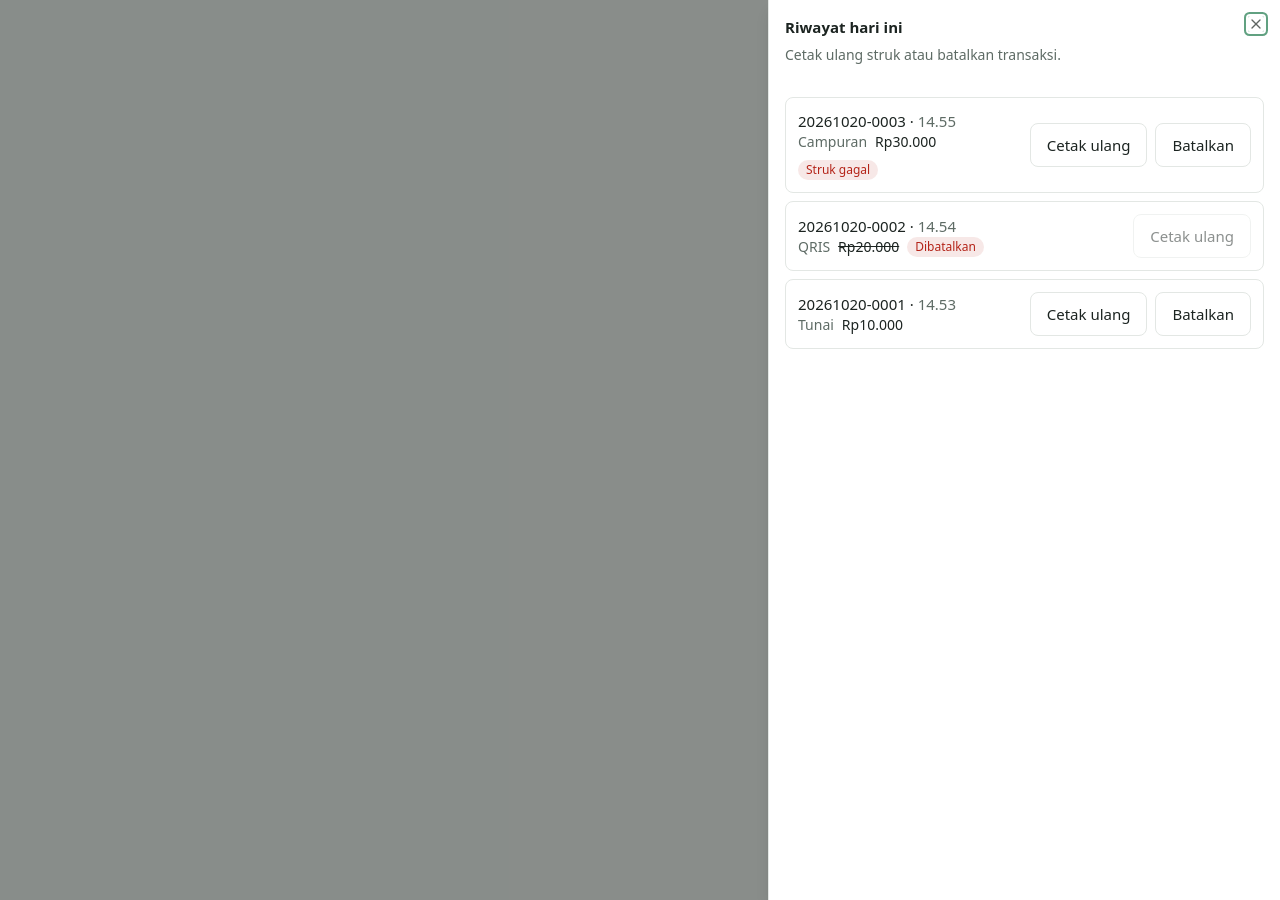
Test: printer gagal → 'Struk gagal dicetak'
The image size is (1280, 900).
Expected: the text "20261020-0001 · 14.53" is shown, [798,293,956,315]
Click the button with aria-label "Cetak ulang 20261020-0001" at {"x": 1089, "y": 314}, box [1030,292,1147,336]
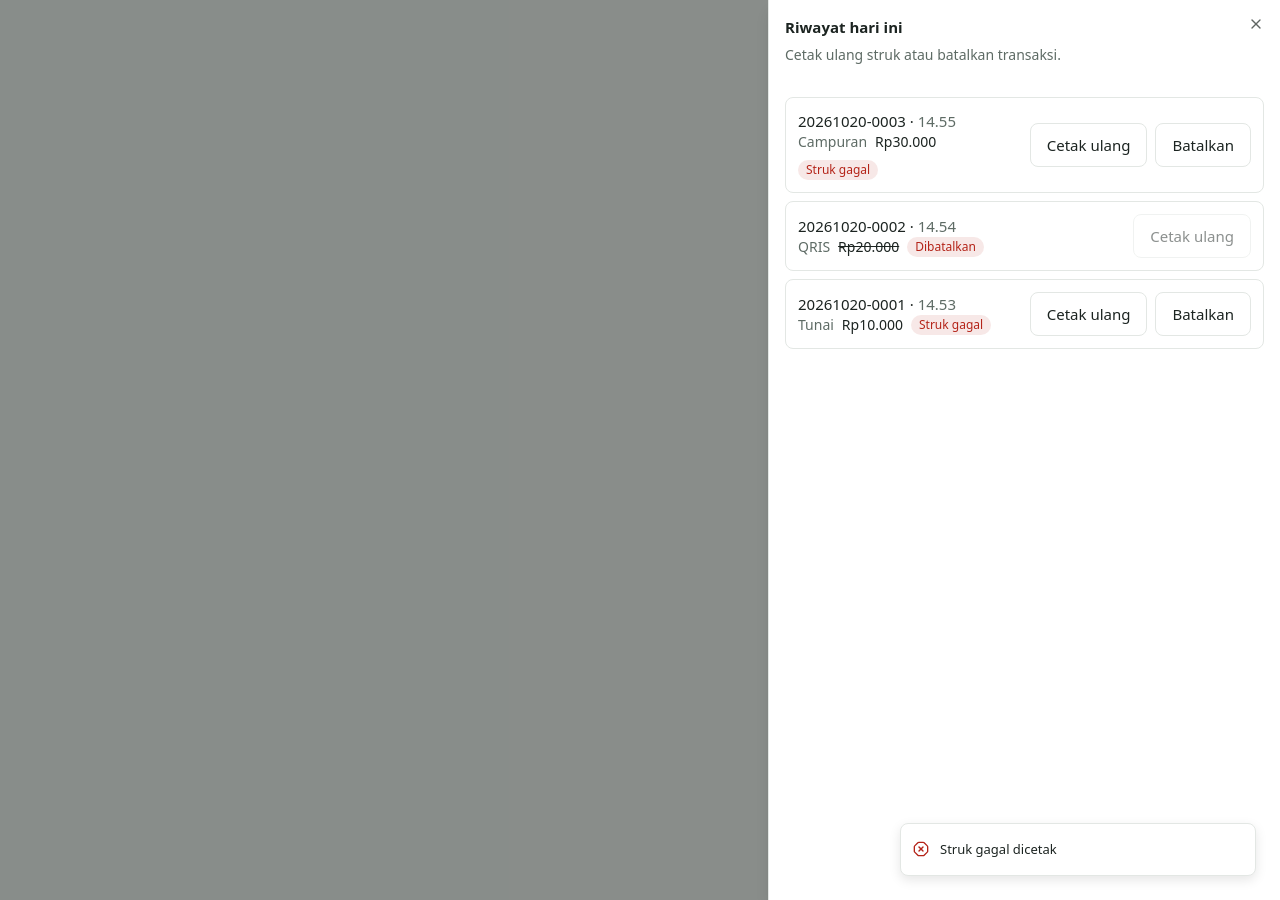
Result: the text "Struk gagal dicetak" is shown at [940,840,1057,859]
